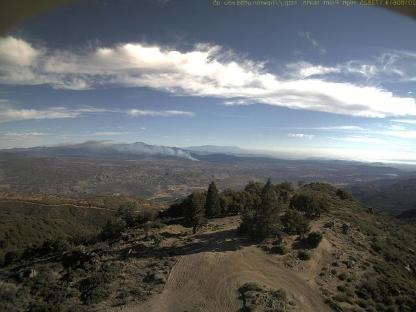smoke: (96, 134, 204, 164)
